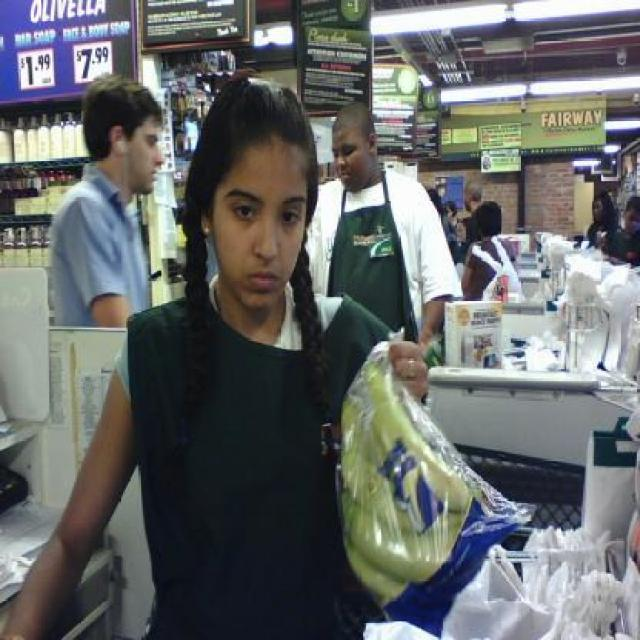plastic bag: (340, 321, 538, 637), (361, 524, 640, 638), (538, 228, 638, 384), (470, 234, 528, 301)
